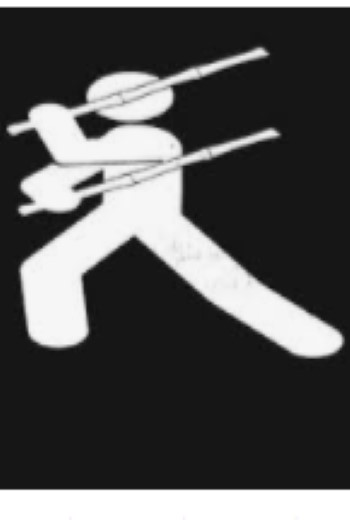baston_e: (21, 44, 251, 145), (27, 127, 264, 223)
baston_v: (260, 120, 293, 145), (249, 38, 277, 67), (0, 116, 24, 147), (10, 196, 31, 226)
